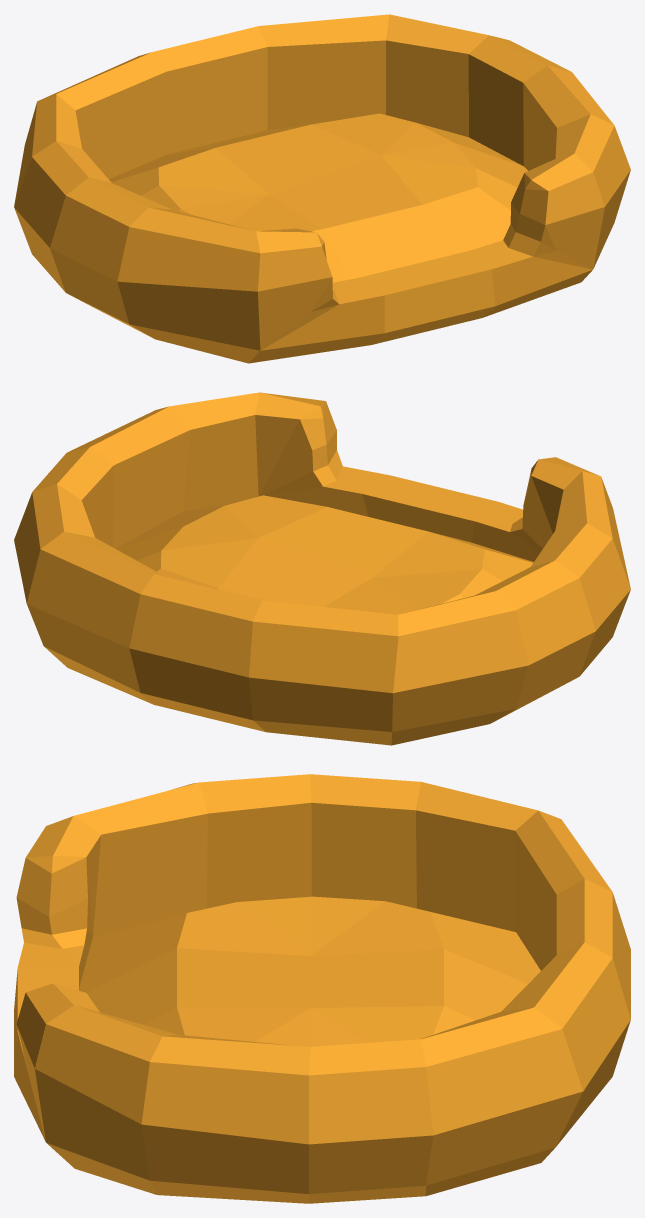
File: SM_Cat_Bed.fbx
3 views of the same model, one above another, from view 1: azimuth 30°, elevation 25°; view 2: azimuth 150°, elevation 25°; view 3: azimuth 270°, elevation 25° (orthographic). The views are drawn at different scales.
Parts seen in each view (by area): view 1: SM_Cat_Bed; view 2: SM_Cat_Bed; view 3: SM_Cat_Bed.
Boxes of the visible parts, x1=… form: SM_Cat_Bed: x1=14, y1=14, x2=630, y2=363; SM_Cat_Bed: x1=14, y1=392, x2=630, y2=745; SM_Cat_Bed: x1=14, y1=774, x2=630, y2=1203.
Size of the model in its own units: 0.532 by 0.1235 by 0.4338.
